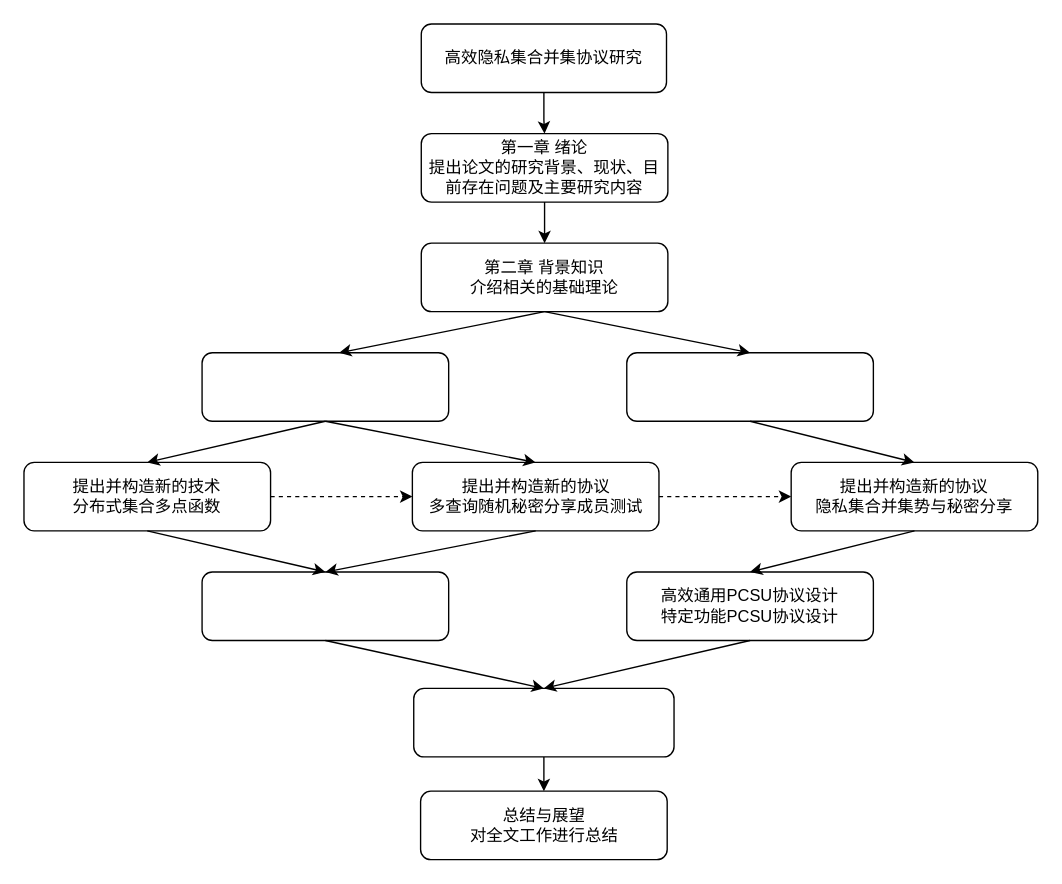
Some shapes in this 1062 by 884 pixel diagram are drawn without their labels. Here are the shapes that lost their labels. From the top down, the box of each, then its label:
(201, 351, 449, 421): 第三章 基于新的隐私成员测试协议的高效PSU协议
(625, 351, 873, 421): 第四章 基于不经意位随机置换网络的高效PCSU协议
(201, 571, 449, 640): 高效且通信友好的 隐私集合并集协议设计
(412, 687, 674, 757): 第五章 PSU和PCSU协议 测试与分析 对协议进行性仿真实验和性能测试，证明其高效性、可用性
